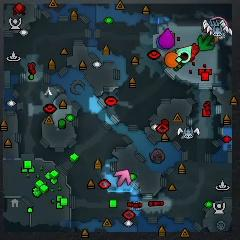p1: (157, 37, 168, 49)
p2: (178, 45, 192, 63)
p2Clone: (179, 50, 191, 63)
p3: (160, 28, 175, 49)
p5: (166, 53, 181, 67)
x1: (115, 169, 132, 186)
x4: (198, 35, 214, 51)
x5: (203, 28, 219, 43)
